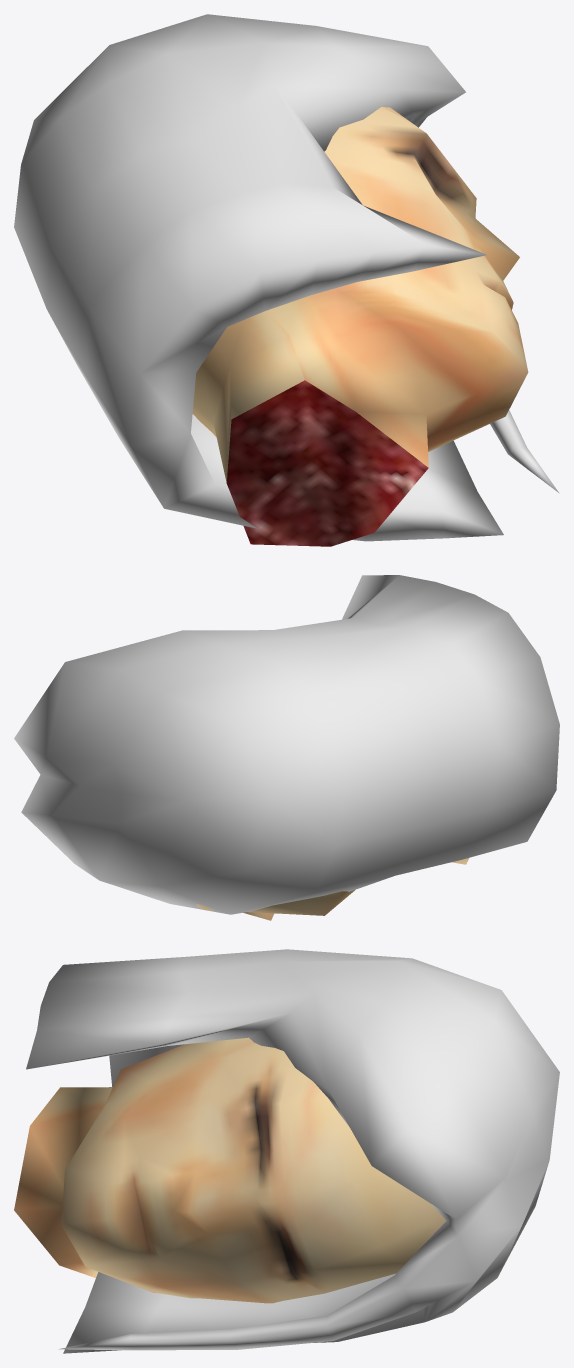
Rendered from Decap_Male_b_1.fbx.
3 views of the same model, one above another, from view 1: azimuth 30°, elevation 25°; view 2: azimuth 150°, elevation 25°; view 3: azimuth 270°, elevation 25° (orthographic). The views are drawn at different scales.
Parts seen in each view (by area): view 1: Male Head 1.001; view 2: Male Head 1.001; view 3: Male Head 1.001.
Boxes of the visible parts, bbox=[...] form: Male Head 1.001: bbox=[14, 14, 559, 546]; Male Head 1.001: bbox=[14, 575, 559, 920]; Male Head 1.001: bbox=[14, 949, 559, 1353].
Bounding box in the file's own units: 0.1998 × 0.1452 × 0.2163.
